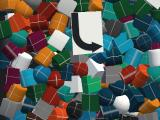Left: (70, 11, 104, 55)
